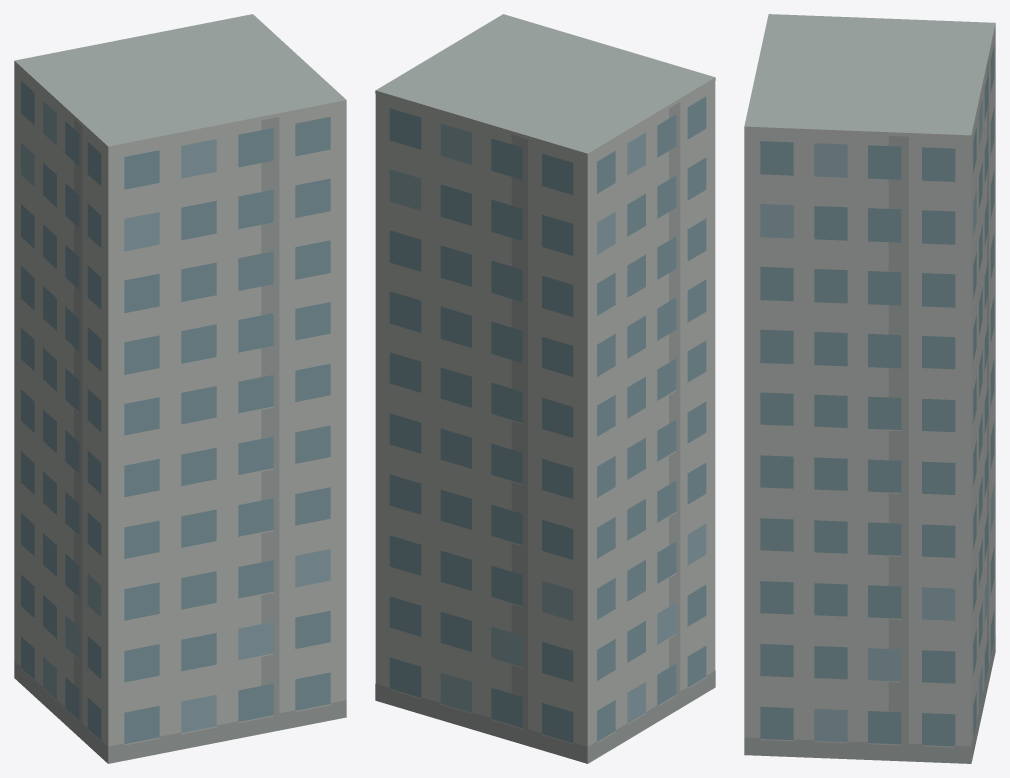
The model's file is residential-7051c191-3fac-4200-9e5e-fceeae79dd7e.glb.
The picture shows the model from 3 angles, left to right: view 1: azimuth 30°, elevation 25°; view 2: azimuth 150°, elevation 25°; view 3: azimuth 270°, elevation 25°; orthographic projection. The views are drawn at different scales.
Parts seen in each view (by area): view 1: residential-7051c191-3fac-4200-9e5e-fceeae79dd7e.tmp; view 2: residential-7051c191-3fac-4200-9e5e-fceeae79dd7e.tmp; view 3: residential-7051c191-3fac-4200-9e5e-fceeae79dd7e.tmp.
Part boxes in pixels (bbox=[...]): residential-7051c191-3fac-4200-9e5e-fceeae79dd7e.tmp: bbox=[14, 14, 346, 763]; residential-7051c191-3fac-4200-9e5e-fceeae79dd7e.tmp: bbox=[375, 14, 715, 763]; residential-7051c191-3fac-4200-9e5e-fceeae79dd7e.tmp: bbox=[744, 14, 995, 763].
Bounding box in the file's own units: 16.99 × 41 × 14.87.
